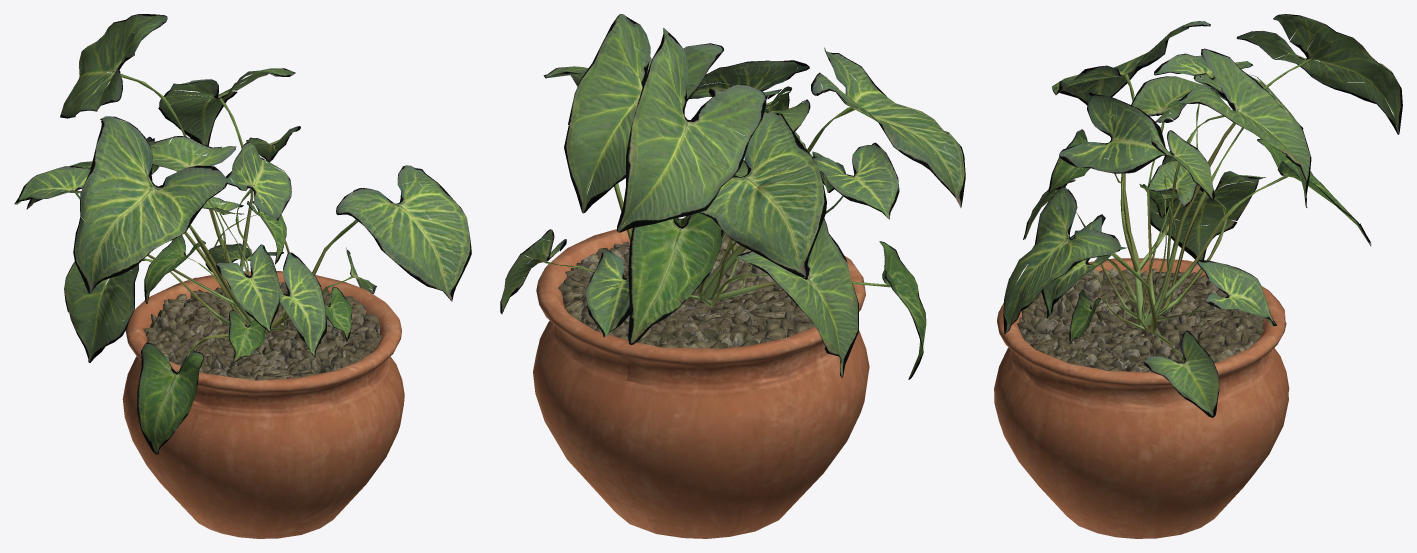
The model's file is potted_plant_02.gltf.
The picture shows the model from 3 angles, left to right: view 1: azimuth 30°, elevation 25°; view 2: azimuth 150°, elevation 25°; view 3: azimuth 270°, elevation 25°; orthographic projection. The views are drawn at different scales.
Parts seen in each view (by area): view 1: potted_plant_02_leaves, potted_plant_02_pot, potted_plant_02_dirt; view 2: potted_plant_02_leaves, potted_plant_02_pot, potted_plant_02_dirt; view 3: potted_plant_02_leaves, potted_plant_02_pot, potted_plant_02_dirt.
Boxes of the visible parts, <box> form: potted_plant_02_leaves: <box>14,14,471,454</box>; potted_plant_02_pot: <box>122,271,404,538</box>; potted_plant_02_dirt: <box>143,282,382,380</box>; potted_plant_02_leaves: <box>500,14,965,379</box>; potted_plant_02_pot: <box>533,228,869,538</box>; potted_plant_02_dirt: <box>558,232,828,348</box>; potted_plant_02_leaves: <box>1003,14,1402,417</box>; potted_plant_02_pot: <box>994,258,1289,538</box>; potted_plant_02_dirt: <box>1017,268,1267,372</box>.
Bounding box in the file's own units: 0.7008 × 0.8416 × 0.657.
2 materials, 2 textured.
